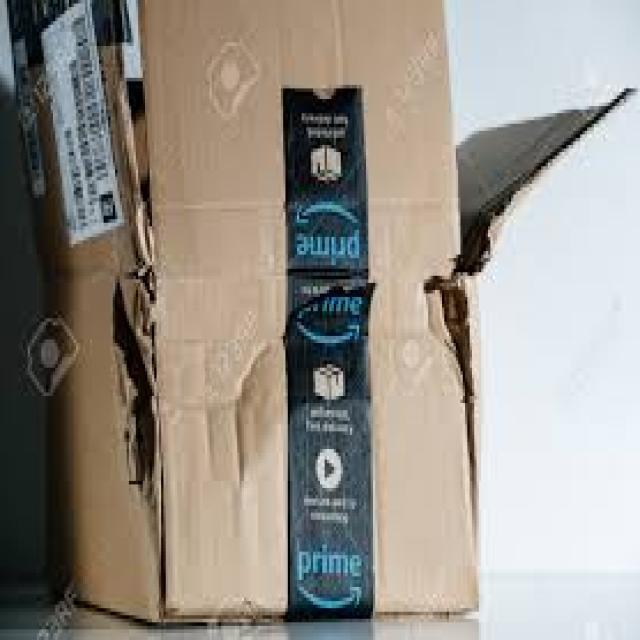box: (1, 0, 640, 617)
opened: (0, 0, 640, 273)
tear: (112, 278, 158, 492), (425, 278, 470, 348)
